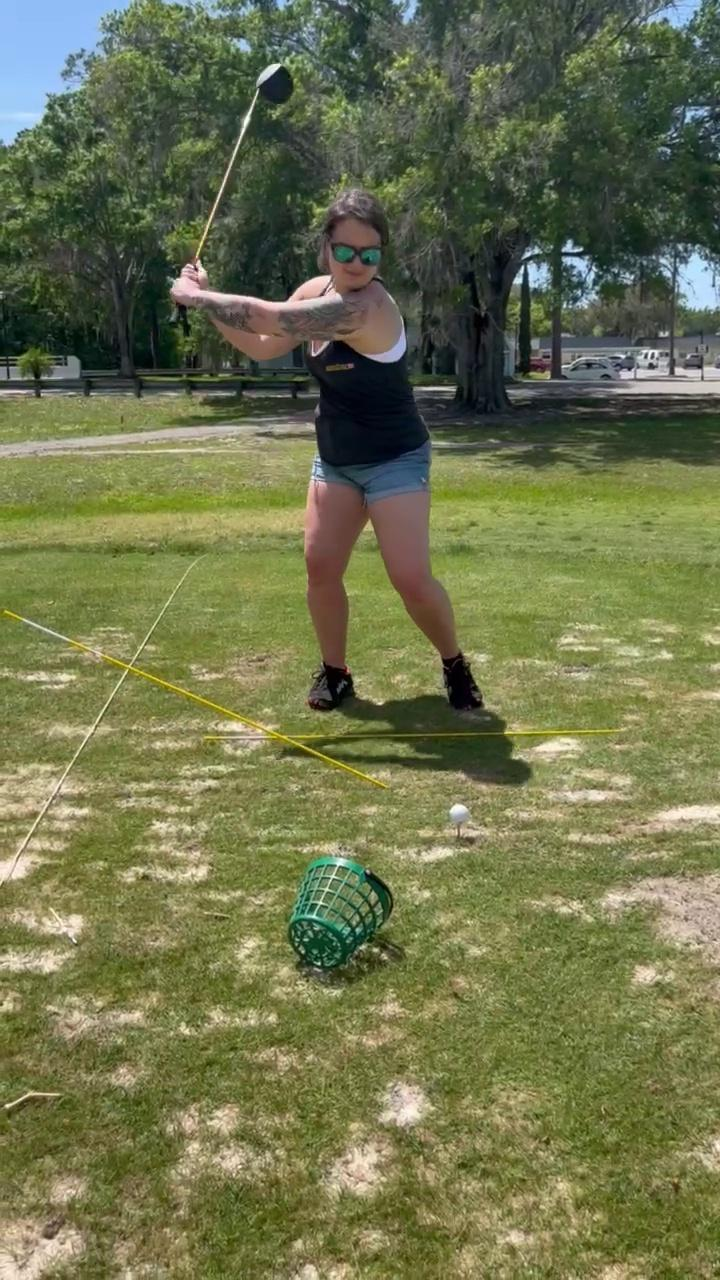ClubHead: (250, 52, 297, 134)
GolfBall: (448, 800, 471, 830)
